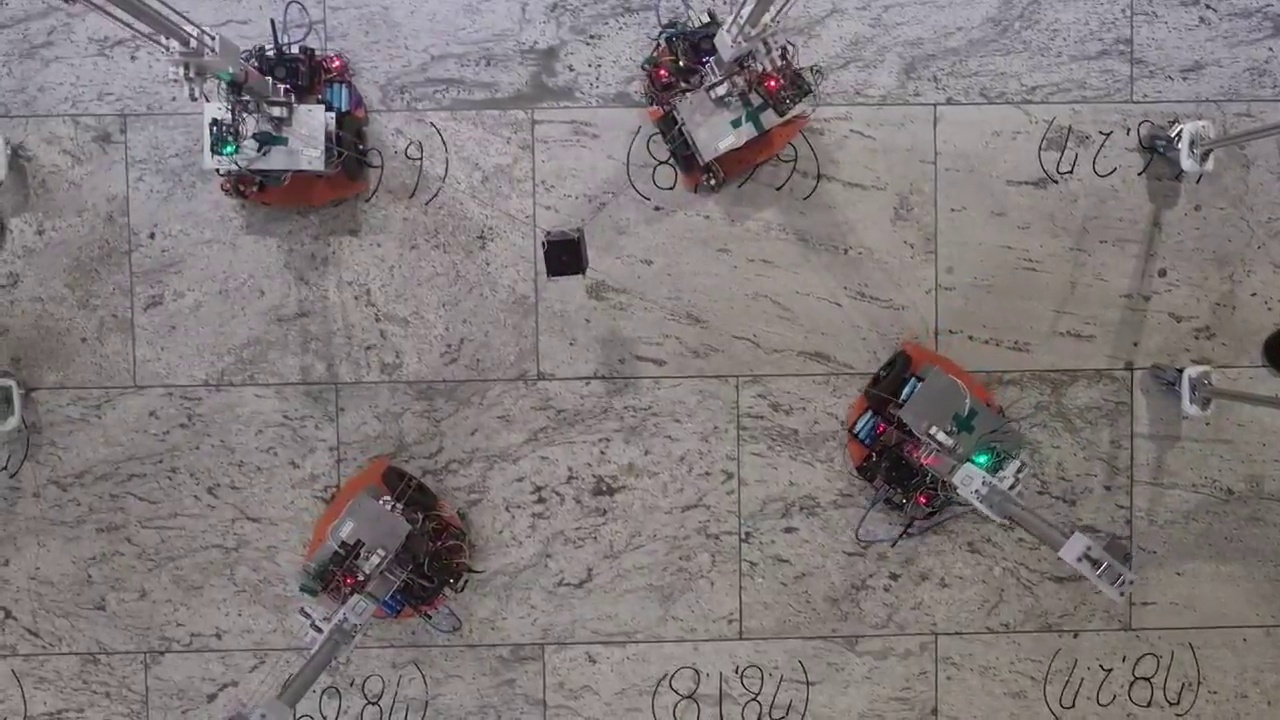e0: (542, 227, 589, 280)
r1: (865, 351, 1011, 473)
r2: (653, 53, 810, 176)
r3: (211, 107, 369, 182)
r4: (314, 467, 438, 606)
y_+_axis_vector: (737, 370, 1133, 376)
y_-_axis_vector: (336, 377, 738, 383)
